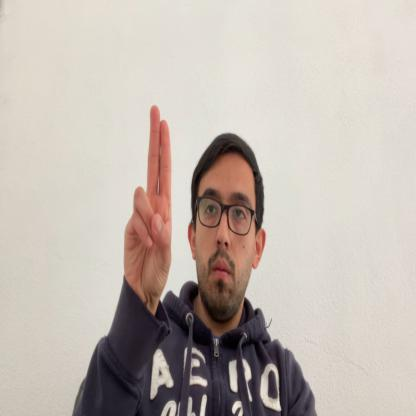U: (122, 102, 171, 307)
